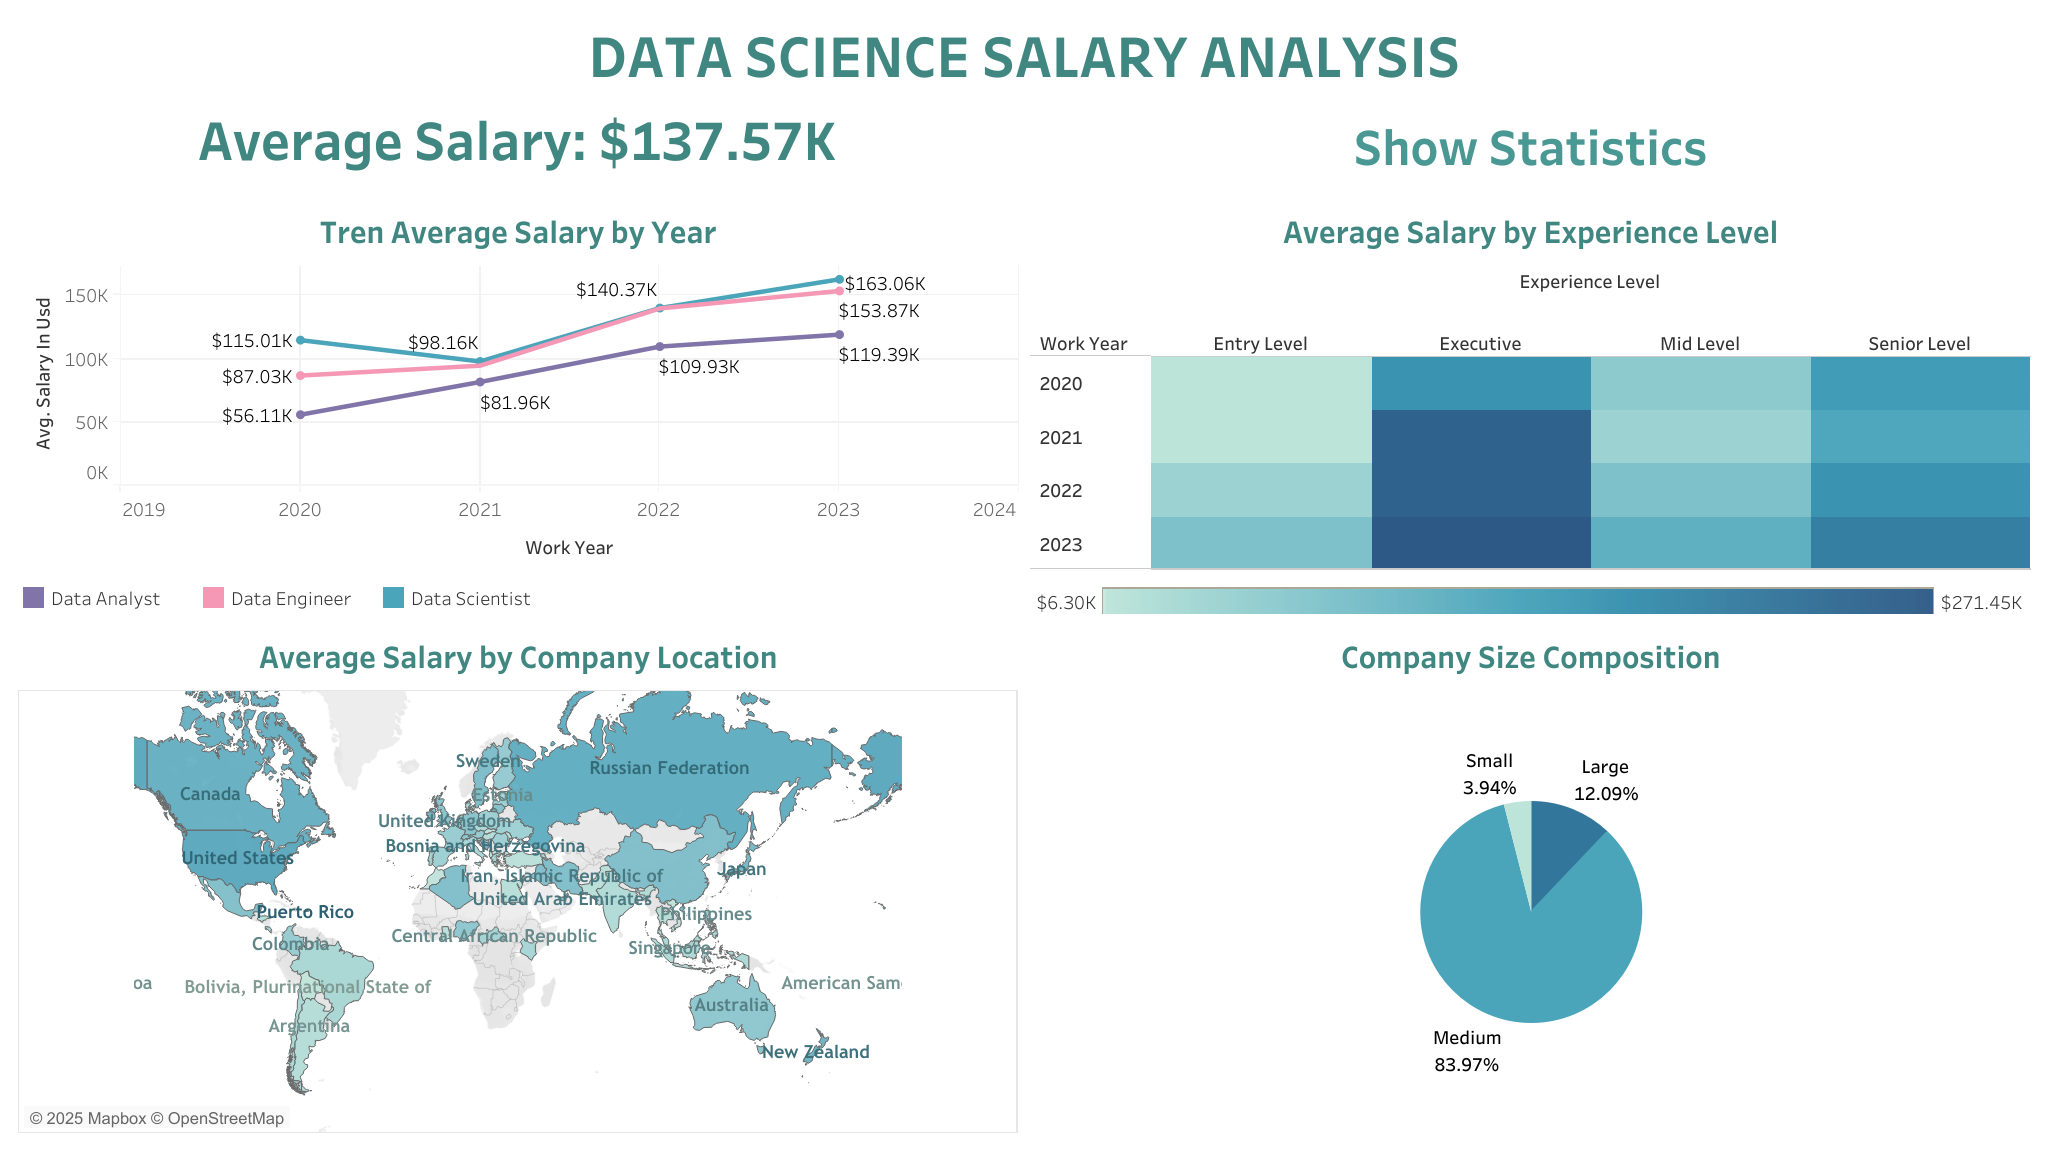

The page's visual inventory and layout, read from the dashboard file:
{"tool":"tableau","page":{"name":"Dashboard 1","canvas":[1600,900],"ordinal":0},"visuals":[{"type":"text","box":[8,8,1584,65]},{"type":"worksheet","title":"Average Salary","mark":"Automatic","box":[8,73,792,79]},{"type":"dashboard-object","box":[800,73,792,79]},{"type":"worksheet","title":"job_cat","mark":"Automatic","rows":["salary_in_usd"],"cols":["work_year"],"box":[8,152,792,298]},{"type":"worksheet","title":"AVG Salary by Exp","mark":"Automatic","rows":["work_year"],"cols":["experience_level"],"box":[800,152,792,332]},{"type":"legend","title":"job_cat","param":"[federated.0b5z8li147imgp1fcd0af1xfuxoh].[none:job_category:nk]","box":[8,450,792,34]},{"type":"worksheet","title":"AVG Salary by Company Location","mark":"Automatic","box":[8,484,875,408]},{"type":"legend","title":"AVG Salary by Company Location","param":"[federated.0b5z8li147imgp1fcd0af1xfuxoh].[avg:salary_in_usd:qk]","box":[883,484,709,37]},{"type":"worksheet","title":"Company Size Composition","mark":"Pie","box":[883,521,709,371]}]}

Visuals, with their boxes in screenshot pixels (x1, y1, x2, y2), scaled from the page's 1600x900 canvas onto the 2048x1151 screenshot:
text: x1=10 y1=10 x2=2038 y2=93
"Average Salary" worksheet: x1=10 y1=93 x2=1024 y2=194
dashboard-object: x1=1024 y1=93 x2=2038 y2=194
"job_cat" worksheet: x1=10 y1=194 x2=1024 y2=576
"AVG Salary by Exp" worksheet: x1=1024 y1=194 x2=2038 y2=619
"job_cat" legend: x1=10 y1=576 x2=1024 y2=619
"AVG Salary by Company Location" worksheet: x1=10 y1=619 x2=1130 y2=1141
"AVG Salary by Company Location" legend: x1=1130 y1=619 x2=2038 y2=666
"Company Size Composition" worksheet (Pie marks): x1=1130 y1=666 x2=2038 y2=1141
